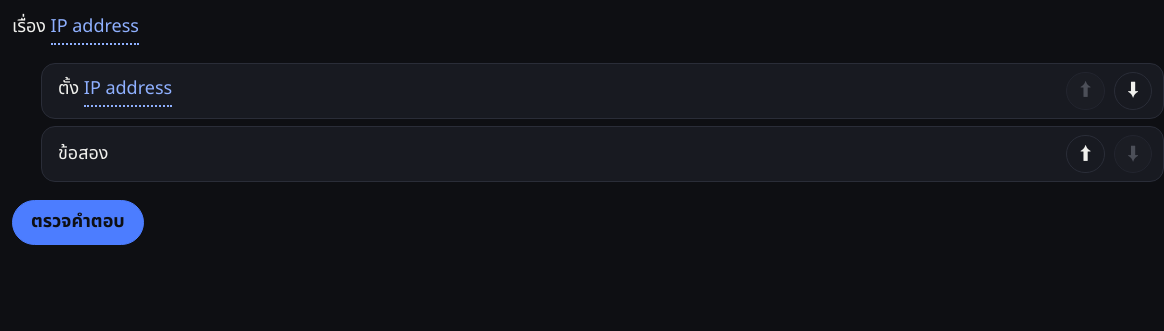
Test case: ActivityView termIds › คำศัพท์ใน intro, ข้อ และคำอธิบาย กดดูความหมายได้
This screenshot has width=1164, height=331.
Expected: the number of buttons "IP address" is 2, [51, 12, 139, 45]; [84, 74, 172, 107]
What coordinates should you click on to do the following:
click the button "ตรวจคำตอบ"
I would click on:
 (78, 223)
Its box is [12, 200, 144, 245].
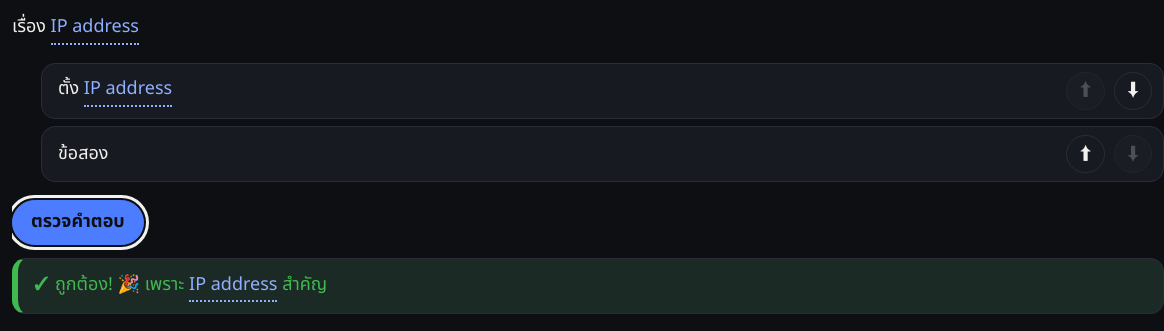
Now the number of buttons "IP address" is 3, box [51, 12, 139, 45]; [84, 74, 172, 107]; [189, 270, 278, 302]
